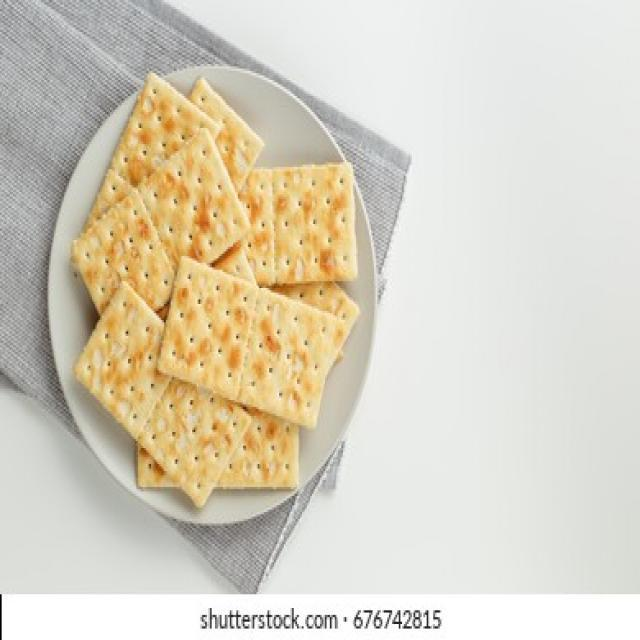Cracker: (74, 281, 260, 519), (72, 135, 251, 323), (160, 252, 337, 421)
